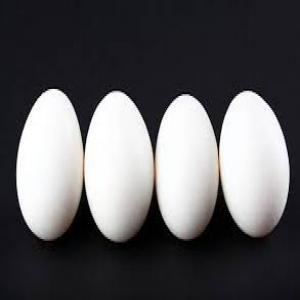Egg: (84, 90, 154, 243), (16, 88, 84, 243), (221, 92, 290, 237), (155, 94, 220, 242)
